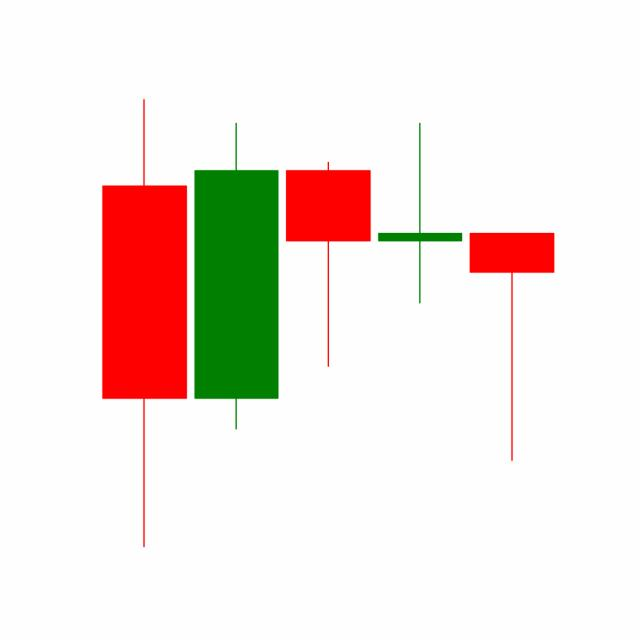Hammer: (464, 229, 558, 463)
